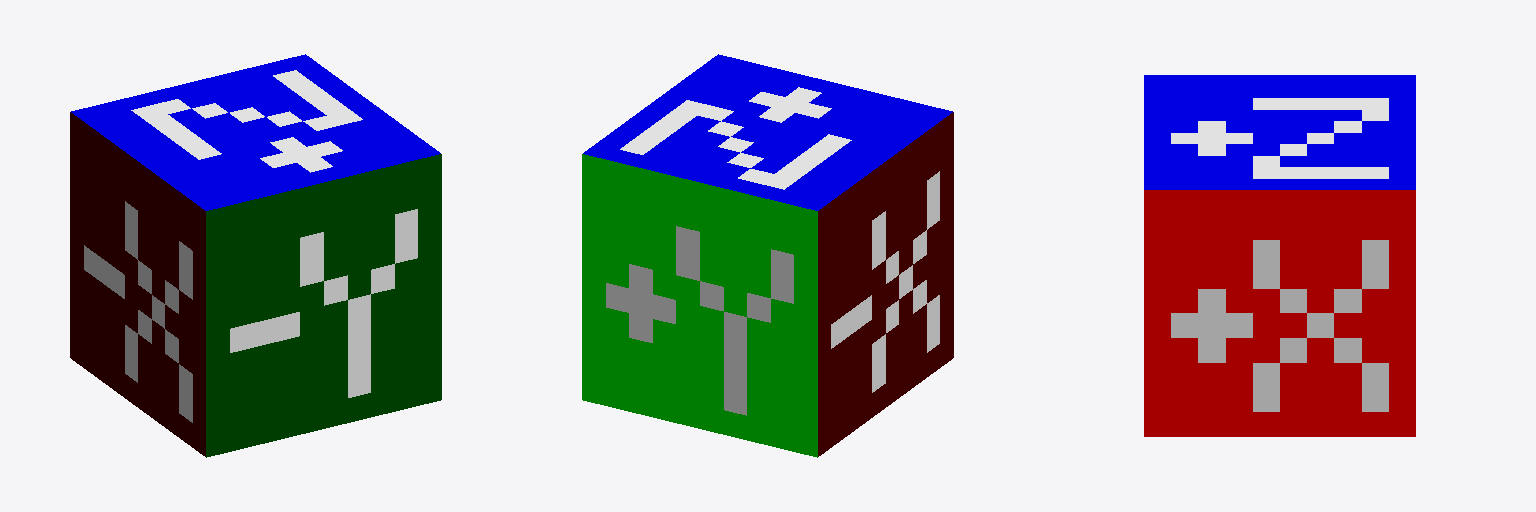
3 views of the same model, side by side, from view 1: azimuth 30°, elevation 25°; view 2: azimuth 150°, elevation 25°; view 3: azimuth 270°, elevation 25° (orthographic).
Parts seen in each view (by area): view 1: Cube; view 2: Cube; view 3: Cube.
Boxes of the visible parts, <box> form: Cube: <box>70,54,441,457</box>; Cube: <box>582,54,953,457</box>; Cube: <box>1144,75,1415,436</box>.
Size of the model in its own units: 2 by 2 by 2.
Materials: 1 (1 with a texture image).